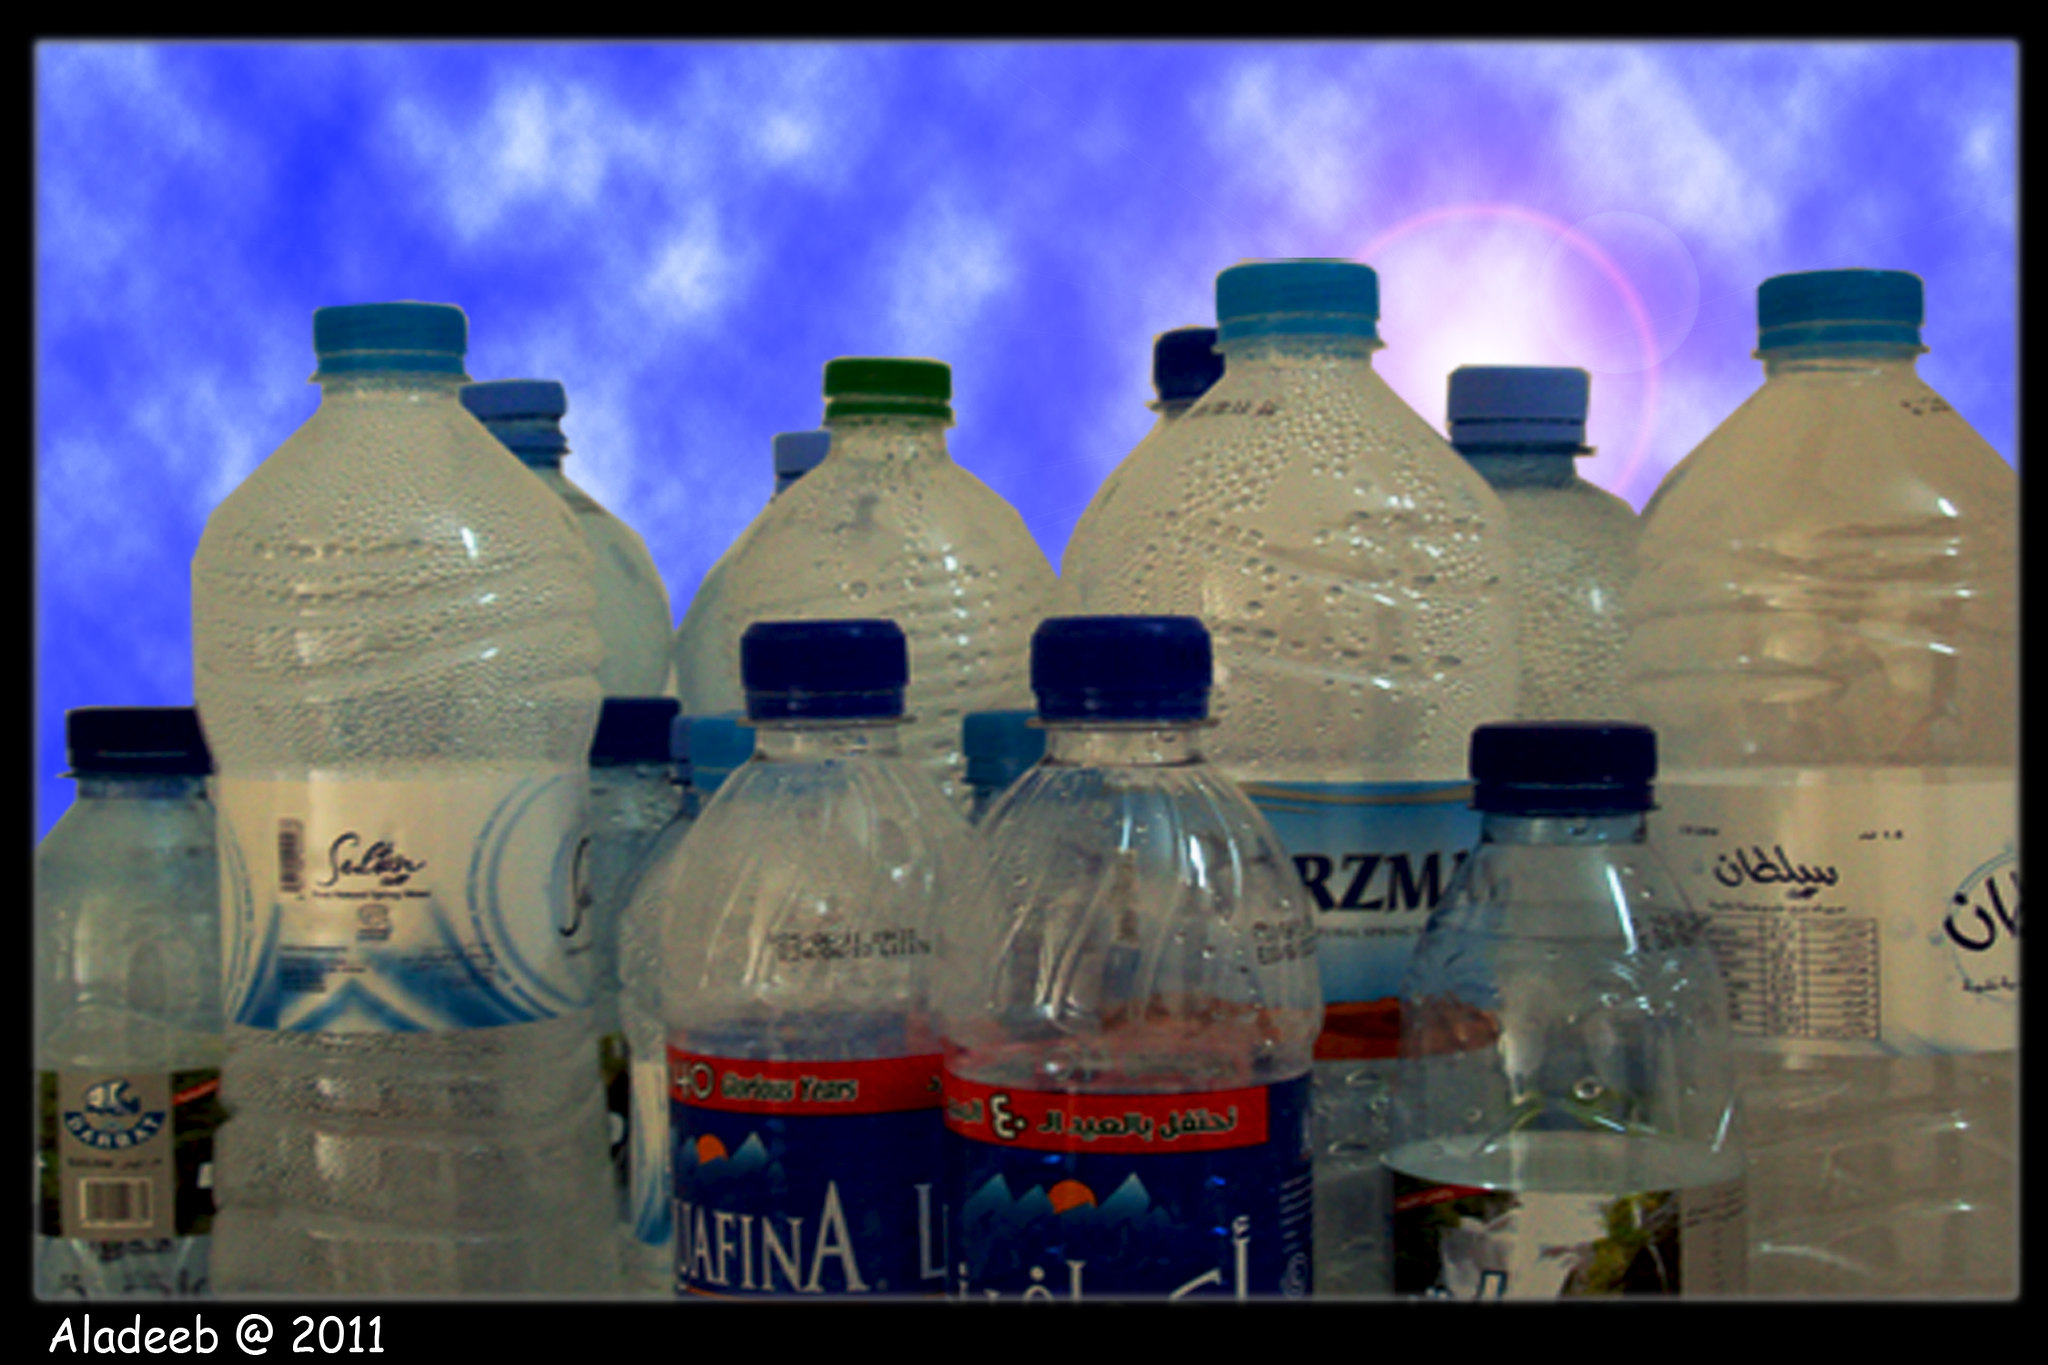Bottle: (1600, 253, 2019, 1299), (190, 271, 589, 1269), (863, 588, 1329, 1312), (990, 242, 1526, 762), (611, 611, 959, 1298), (1392, 710, 1734, 1299), (346, 245, 670, 748), (697, 338, 1048, 689), (49, 634, 228, 1303), (1407, 280, 1660, 710)
